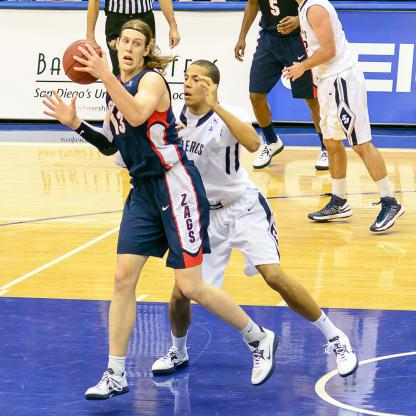Ball: (64, 42, 102, 85)
